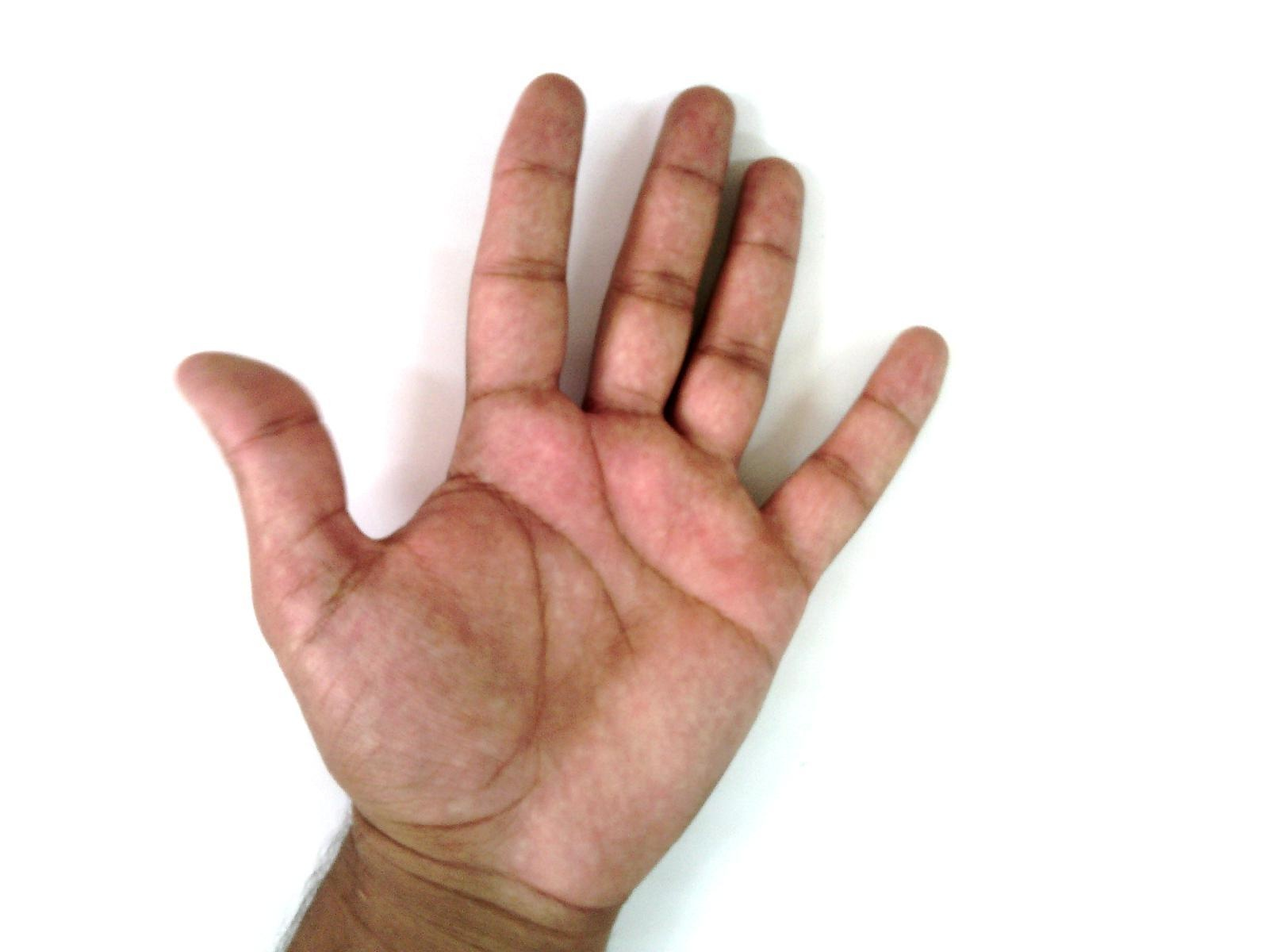open_palm: (173, 71, 953, 921)
